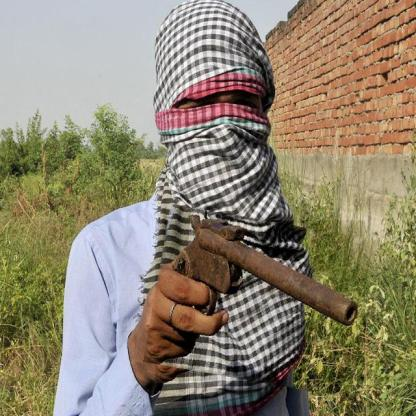handgun: (149, 212, 372, 389)
